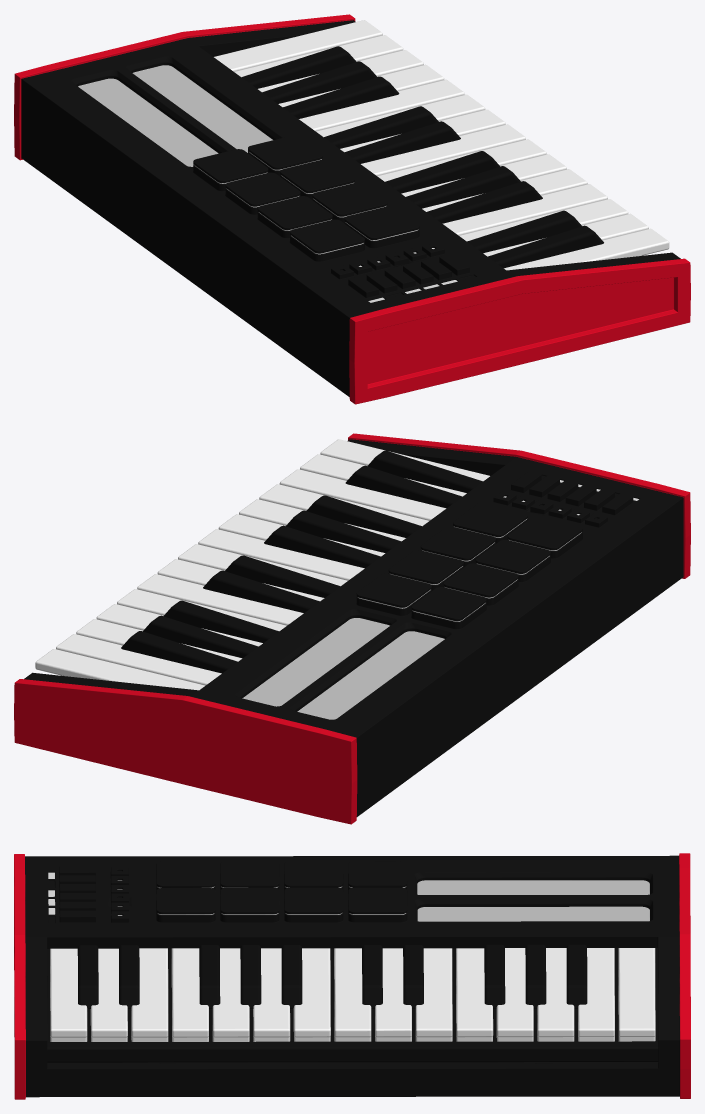
Rendered from MidiKeyboard.fbx.
3 views of the same model, one above another, from view 1: azimuth 30°, elevation 25°; view 2: azimuth 150°, elevation 25°; view 3: azimuth 270°, elevation 25° (orthographic).
Parts seen in each view (by area): view 1: MIDI Keyboard, White keys, Black keys 2, Black keys 4, Black keys 3, Black keys 1; view 2: MIDI Keyboard, White keys, Black keys 2, Black keys 4, Black keys 1, Black keys 3; view 3: MIDI Keyboard, White keys, Cube.033, Black keys 4, Black keys 2, Black keys 1, Black keys 3.
Boxes of the visible parts, left/top/right/bottom form: MIDI Keyboard: left=14, top=14, right=690, bottom=404; White keys: left=214, top=20, right=669, bottom=270; Black keys 2: left=385, top=151, right=542, bottom=223; Black keys 4: left=241, top=46, right=399, bottom=118; Black keys 3: left=324, top=106, right=460, bottom=163; Black keys 1: left=467, top=210, right=603, bottom=268; MIDI Keyboard: left=14, top=433, right=690, bottom=824; White keys: left=35, top=439, right=489, bottom=690; Black keys 2: left=264, top=495, right=421, bottom=568; Black keys 4: left=121, top=600, right=278, bottom=673; Black keys 1: left=345, top=450, right=482, bottom=508; Black keys 3: left=203, top=555, right=340, bottom=612; MIDI Keyboard: left=14, top=853, right=690, bottom=1099; White keys: left=50, top=948, right=655, bottom=1041; Cube.033: left=47, top=1041, right=658, bottom=1062; Black keys 4: left=484, top=944, right=587, bottom=1008; Black keys 2: left=199, top=945, right=302, bottom=1008; Black keys 1: left=77, top=945, right=139, bottom=1008; Black keys 3: left=362, top=945, right=423, bottom=1008.
Bounding box in the file's own units: 22.53 × 5.9 × 39.21.
